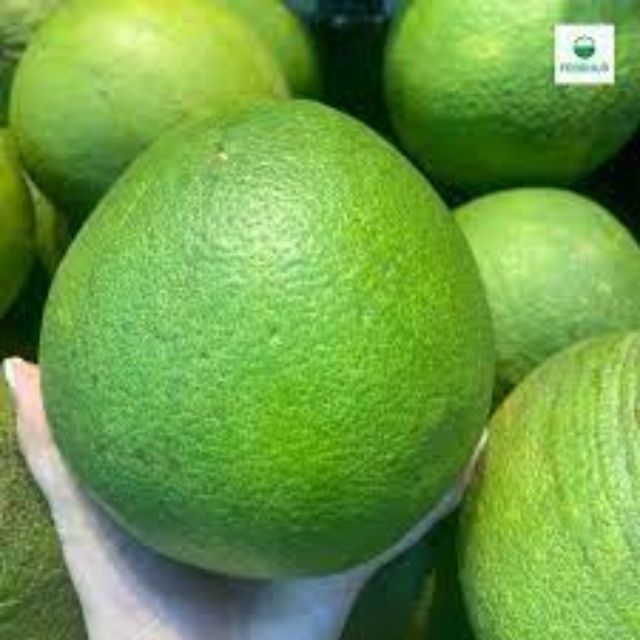buoi: (37, 94, 498, 581)
